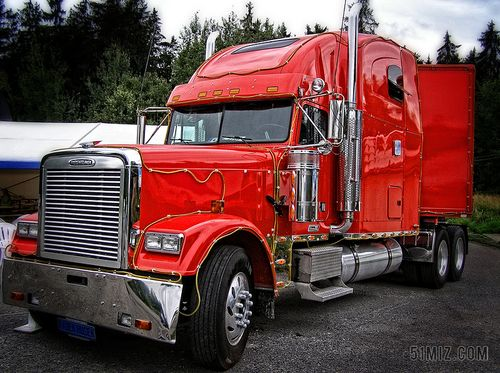卡车: (11, 11, 500, 354)
